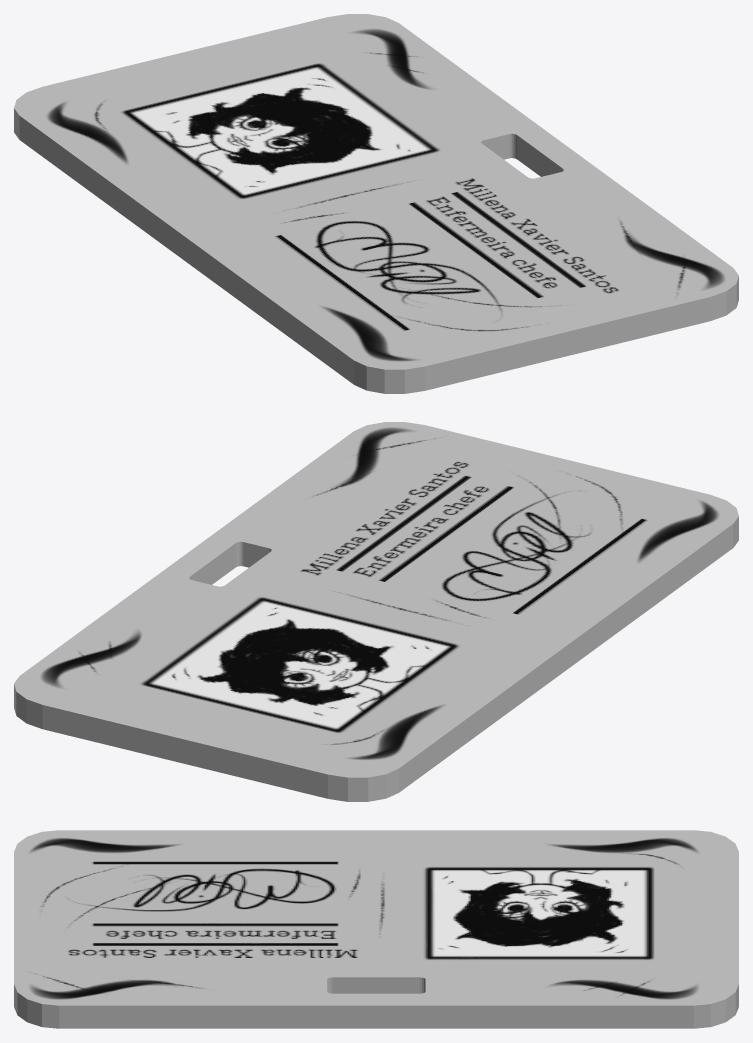
The model's file is CartãoDeIdentidade.fbx.
3 views of the same model, one above another, from view 1: azimuth 30°, elevation 25°; view 2: azimuth 150°, elevation 25°; view 3: azimuth 270°, elevation 25° (orthographic). The views are drawn at different scales.
Parts seen in each view (by area): view 1: Cube; view 2: Cube; view 3: Cube.
Boxes of the visible parts, box(x1,y1,x2,y2) form: Cube: box(14, 14, 738, 393); Cube: box(14, 422, 738, 801); Cube: box(14, 830, 738, 1028).
Bounding box in the file's own units: 567 × 34.8 × 990.
1 material, 1 textured.
